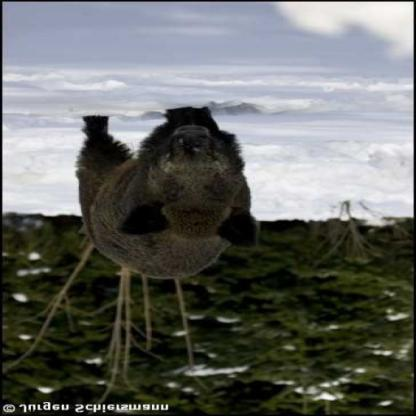boar: (61, 98, 255, 306)
